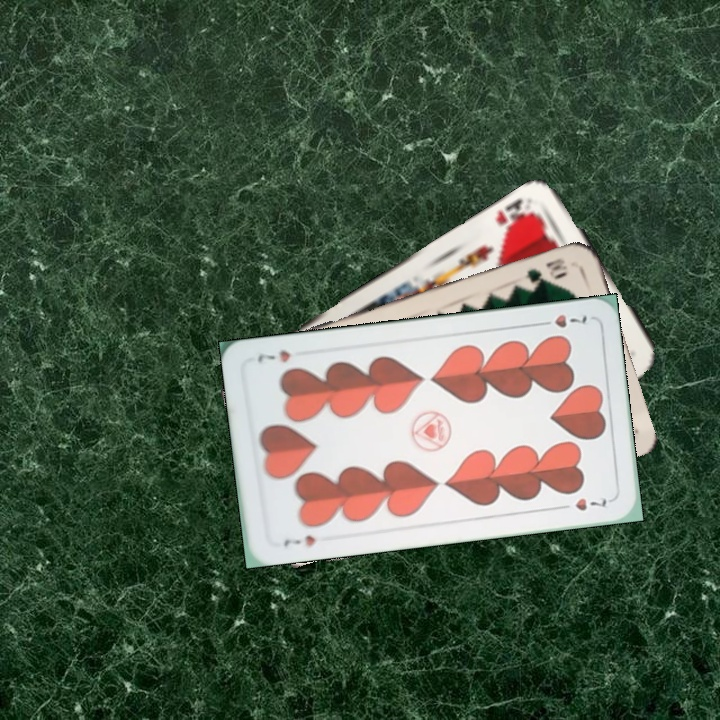G10: (520, 254, 571, 287)
H7: (534, 310, 590, 331), (279, 531, 318, 549)
HK: (491, 194, 538, 236)
